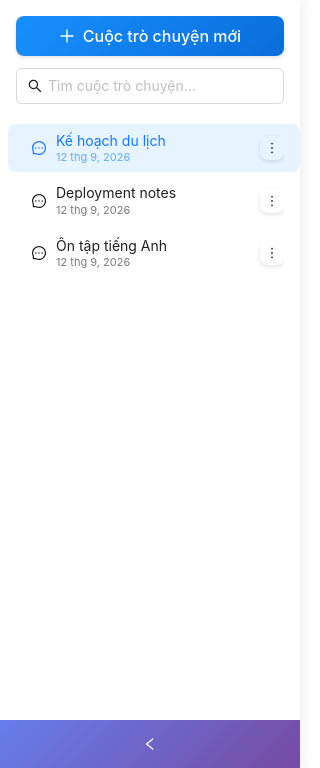
Test: Sidebar › search › says so when nothing matches
The image size is (320, 768).
Type "zzzz" into the field at (151, 86), box [46, 73, 256, 99]
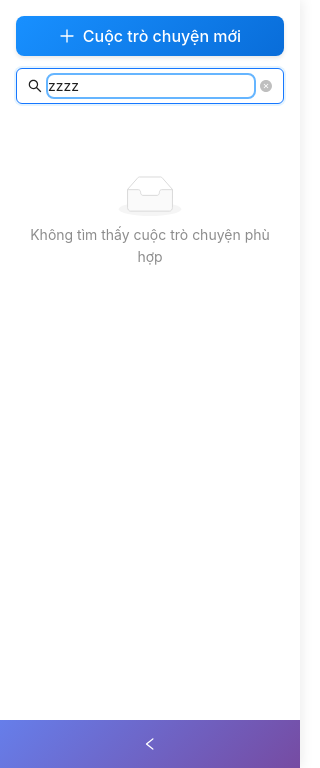
Check: the text "Không tìm thấy cuộc trò chuyện phù hợp" is shown, box [24, 224, 276, 268]
